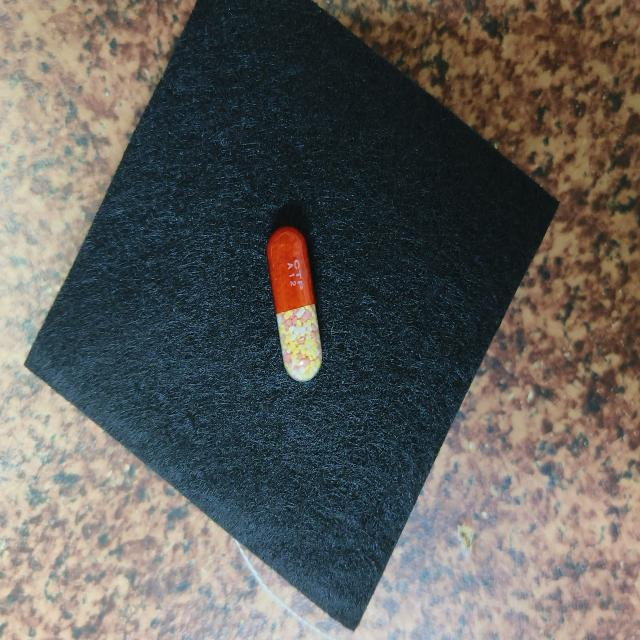Intact Capsule: (266, 226, 322, 381)
